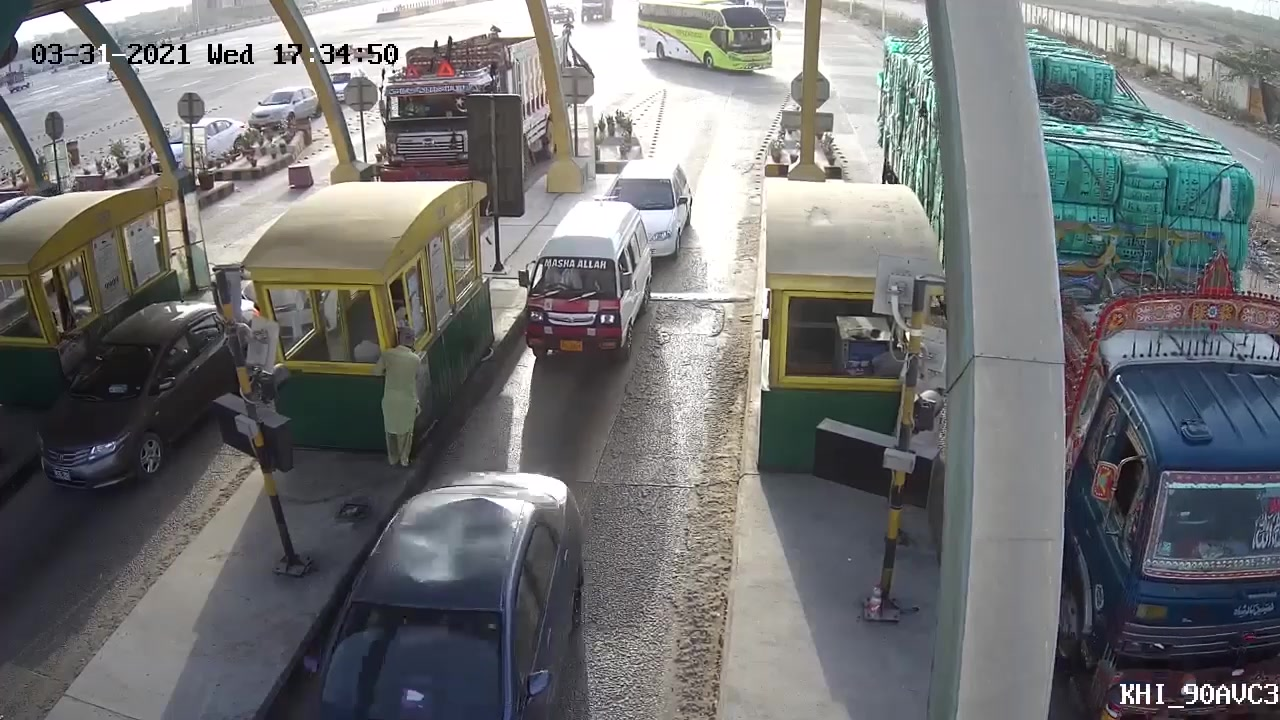F1: (518, 204, 653, 375)
